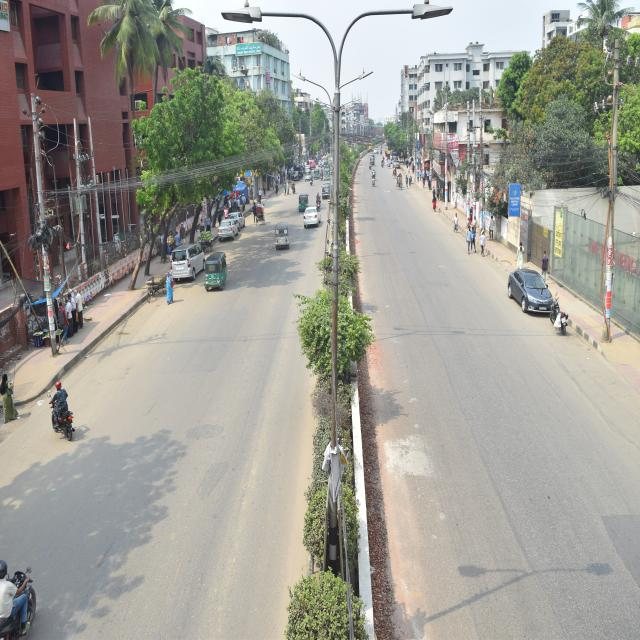car: (508, 263, 556, 320), (303, 205, 323, 239), (218, 220, 240, 245), (320, 172, 338, 202), (226, 204, 244, 231)
microbus: (164, 243, 215, 284)
motorbike: (43, 384, 85, 437), (544, 293, 574, 346)
